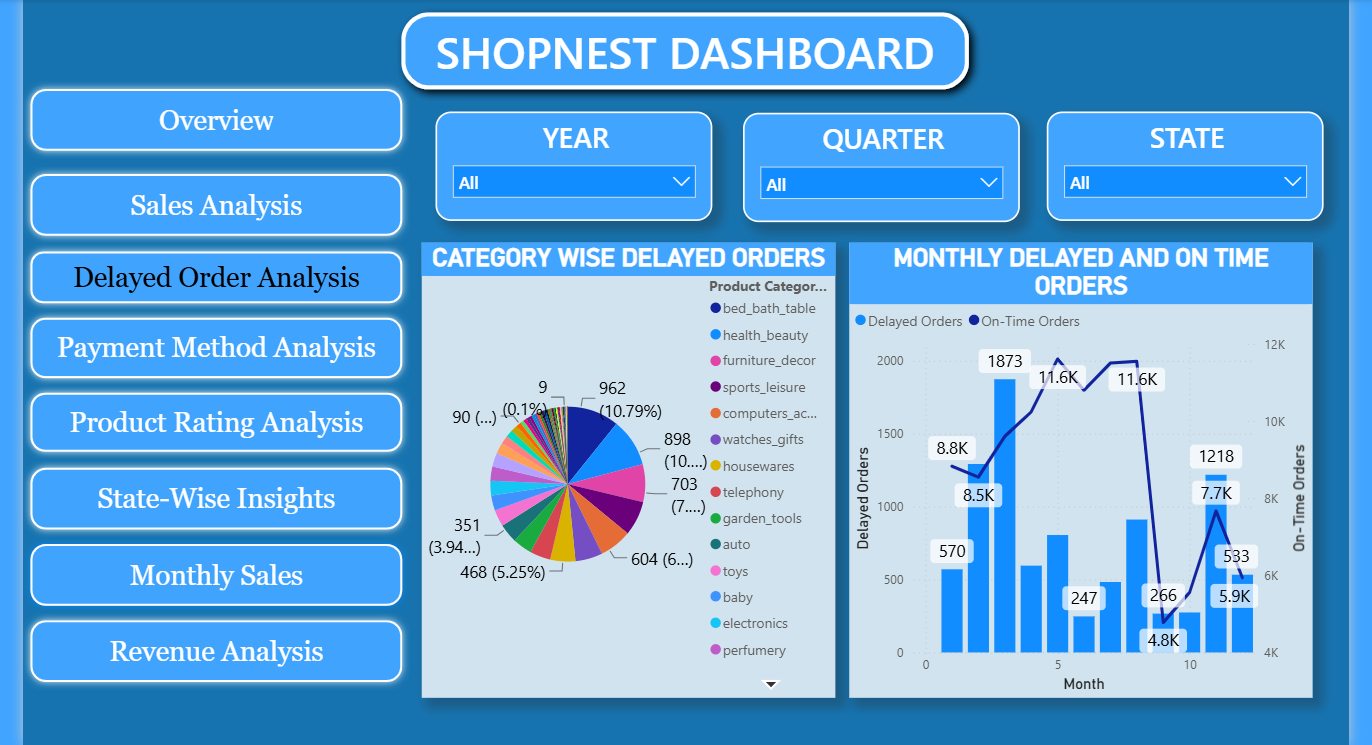

Layout of this report page (visuals, bound fields, positions):
{"tool":"powerbi","page":{"name":"Delayed Order Analysis","canvas":[1280,720],"ordinal":2},"visuals":[{"type":"shape","box":[352.7,0,573.6,100.2],"z":0},{"type":"slicer","title":"YEAR","fields":{"Values":["orders_dataset.Year"]},"box":[397.9,108.4,267.6,105.7],"z":1000},{"type":"slicer","title":"QUARTER","fields":{"Values":["orders_dataset.Quarter"]},"box":[694.3,109.8,267.6,105.7],"z":2000},{"type":"slicer","title":"STATE","fields":{"Values":["orders_dataset.state"]},"box":[988,108.4,267.6,105.7],"z":3000},{"type":"pieChart","title":"CATEGORY WISE DELAYED ORDERS","fields":{"Y":["CountNonNull(orders_dataset.order_id)"],"Category":["product_dataset.product_category_name_english"]},"box":[384.9,235.3,399.3,439.1],"z":4000},{"type":"lineStackedColumnComboChart","title":"MONTHLY DELAYED AND ON TIME ORDERS","fields":{"Category":["orders_dataset.Month"],"Y2":["Calculated Measures.On-Time Orders"],"Y":["Calculated Measures.Delayed Orders"]},"box":[797.5,235.3,447.6,439.1],"z":5000},{"type":"shape","box":[0,236,373.2,64.5],"z":6000},{"type":"shape","box":[0,161.9,373.2,74.1],"z":7000},{"type":"shape","box":[0,300.5,373.2,72.7],"z":8000},{"type":"shape","box":[0,444.6,373.2,74.1],"z":9000},{"type":"shape","box":[0,373.2,373.2,71.4],"z":10000},{"type":"shape","box":[0,592.8,373.2,74.1],"z":11000},{"type":"shape","box":[0,518.7,373.2,74.1],"z":12000},{"type":"shape","box":[0,79.6,373.2,74.1],"z":13000}]}

Visuals, with their boxes on the page's 1280x720 design canvas (x1, y1, x2, y2). These are canvas units, not pixel positions in the 1372x745 screenshot, which may show the page scaled, cropped or inside an application window:
shape: 353 0 926 100
"YEAR" slicer: 398 108 666 214
"QUARTER" slicer: 694 110 962 216
"STATE" slicer: 988 108 1256 214
"CATEGORY WISE DELAYED ORDERS" pieChart: 385 235 784 674
"MONTHLY DELAYED AND ON TIME ORDERS" lineStackedColumnComboChart: 798 235 1245 674
shape: 0 236 373 300
shape: 0 162 373 236
shape: 0 300 373 373
shape: 0 445 373 519
shape: 0 373 373 445
shape: 0 593 373 667
shape: 0 519 373 593
shape: 0 80 373 154
